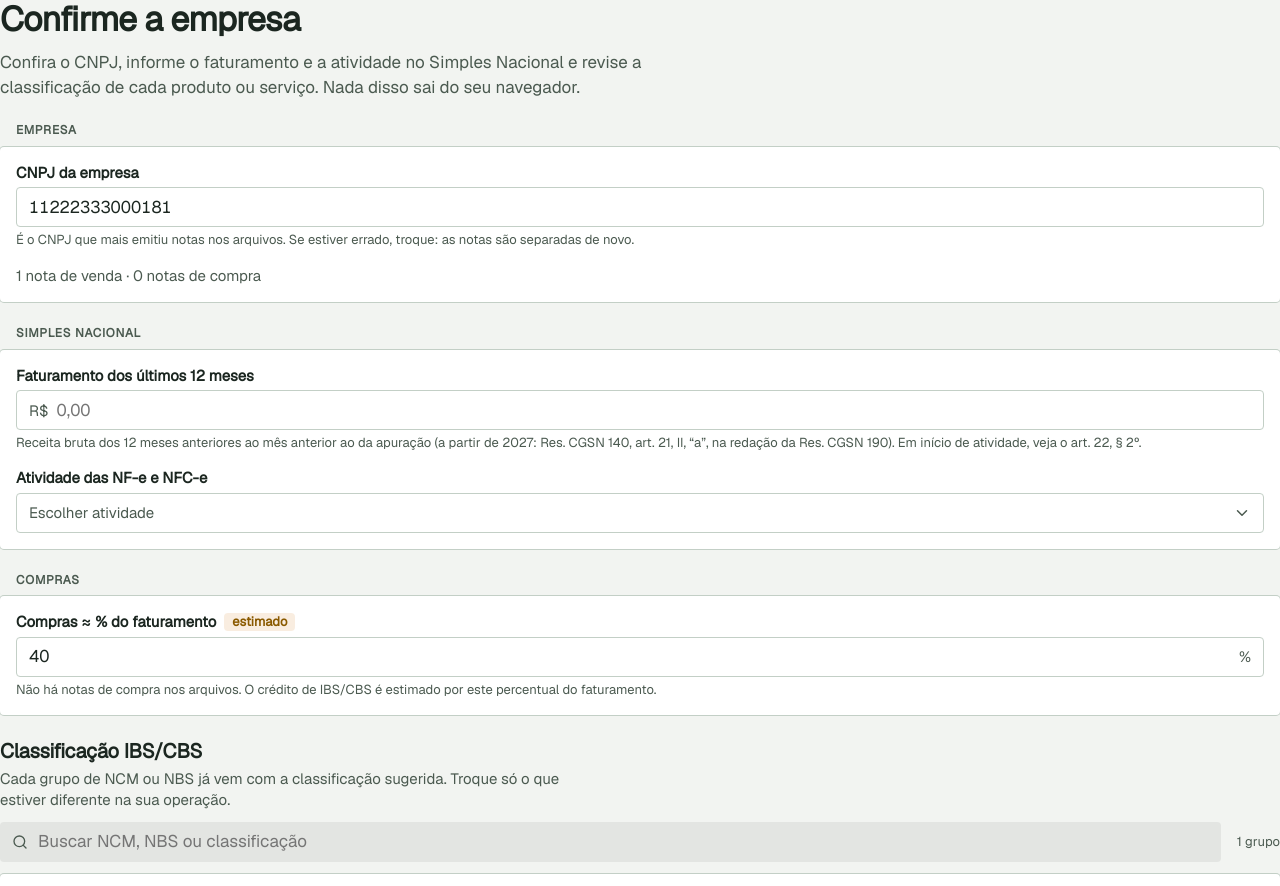
Test: Confirmar — atividade do Simples › com mais de 8 opções aparece a busca, que filtra por código e descrição
This screenshot has width=1280, height=886.
Click the button named "Atividade das NF-e e NFC-e" at {"x": 92, "y": 513}, box [16,493,1264,533]
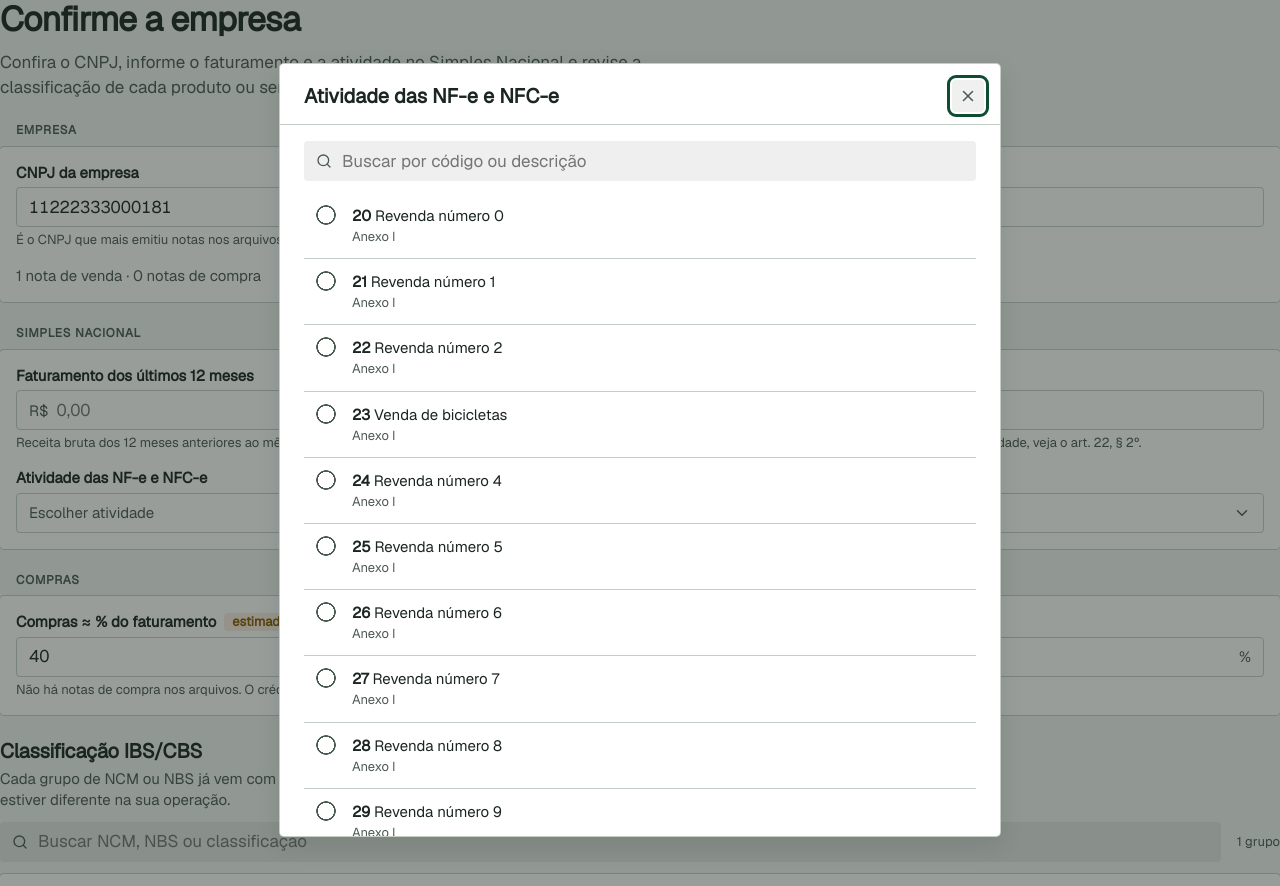
Type "bicicleta" into the search field at {"x": 652, "y": 161}, box [340,142,964,180]
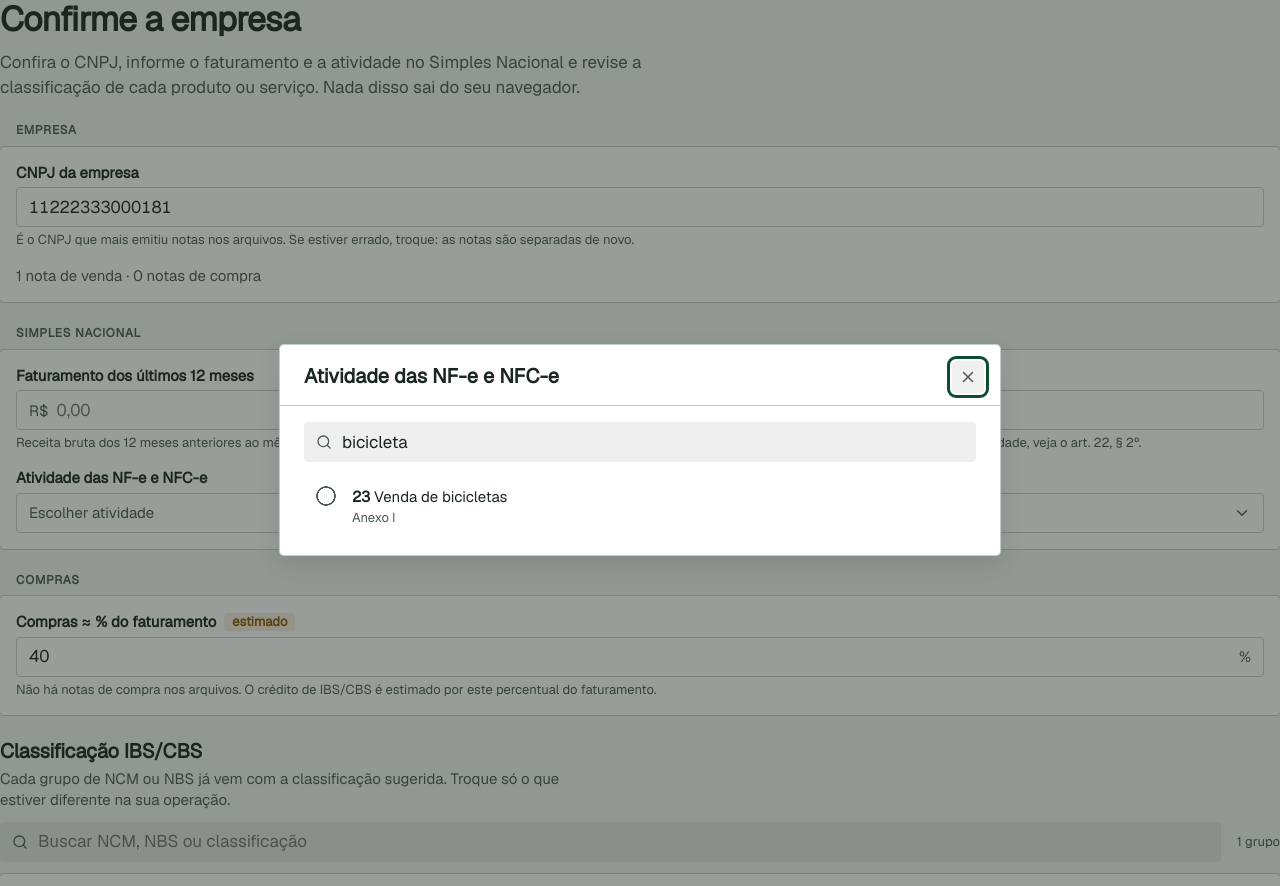
Replace the text in the search field with "zzz" at {"x": 652, "y": 442}, box [340,423,964,461]
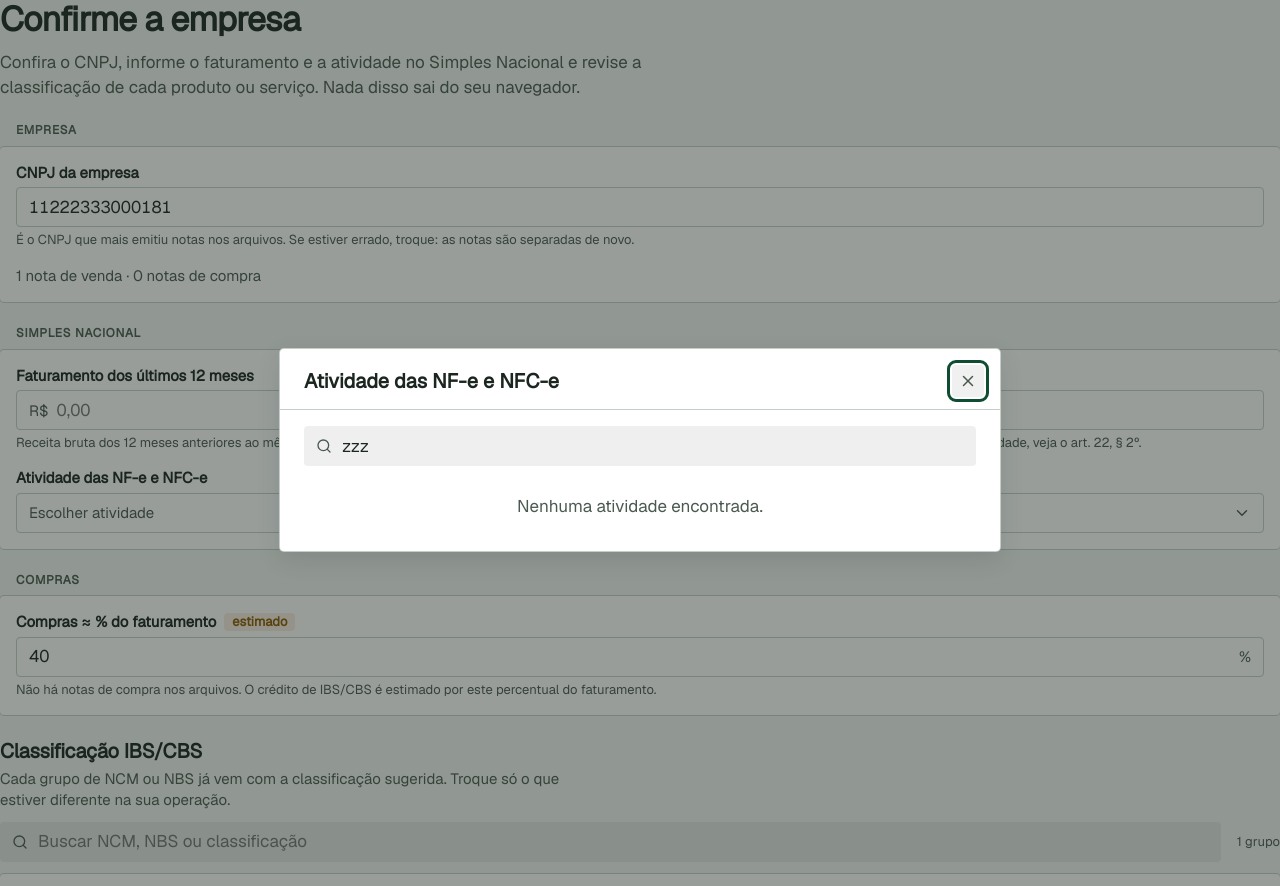
Expected: the text "Nenhuma atividade encontrada." is shown, [517,495,763,517]
